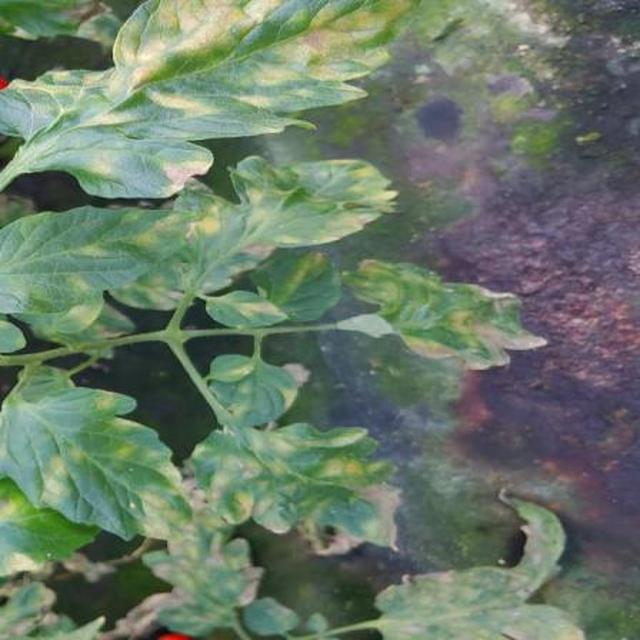Leaf Mold: (127, 68, 634, 640)
